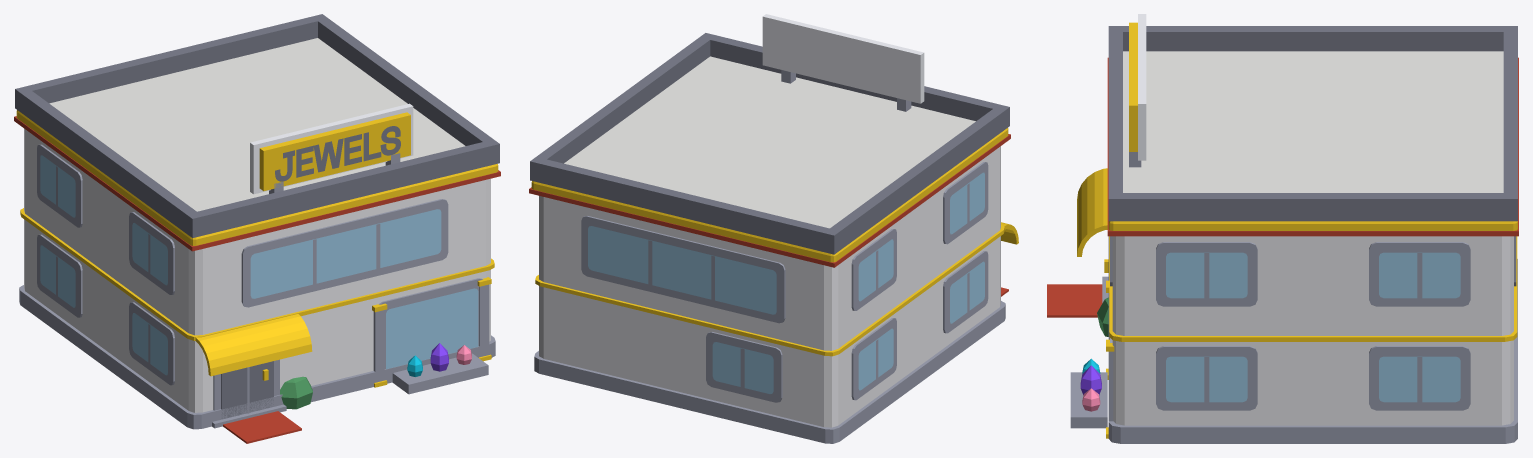
The model's file is shop-luxury-1x1-t2-tone-a.glb.
The picture shows the model from 3 angles, left to right: view 1: azimuth 30°, elevation 25°; view 2: azimuth 150°, elevation 25°; view 3: azimuth 270°, elevation 25°; orthographic projection. The views are drawn at different scales.
Parts seen in each view (by area): view 1: shop-luxury-1x1-t2-tone-a; view 2: shop-luxury-1x1-t2-tone-a; view 3: shop-luxury-1x1-t2-tone-a.
Boxes of the visible parts, x1,y1,x2,y2 form: shop-luxury-1x1-t2-tone-a: [14, 14, 500, 443]; shop-luxury-1x1-t2-tone-a: [529, 14, 1018, 443]; shop-luxury-1x1-t2-tone-a: [1047, 14, 1518, 443].
Size of the model in its own units: 1 by 0.804 by 1.15.
1 material, 1 textured.
